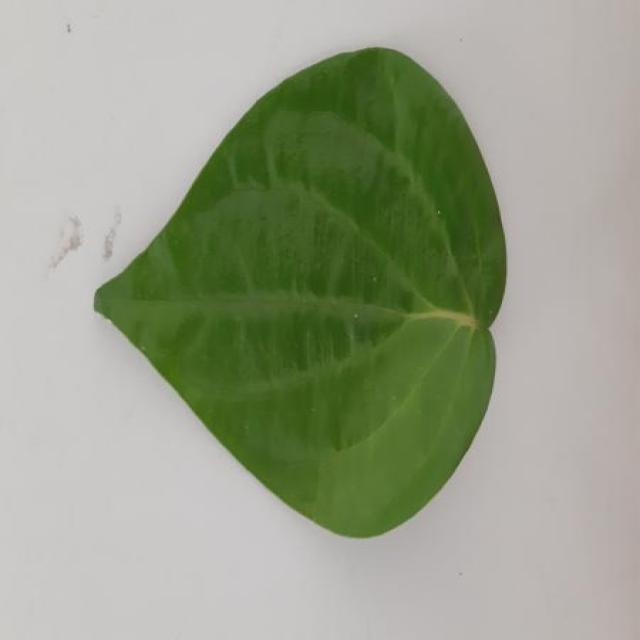betel: (95, 48, 505, 537)
